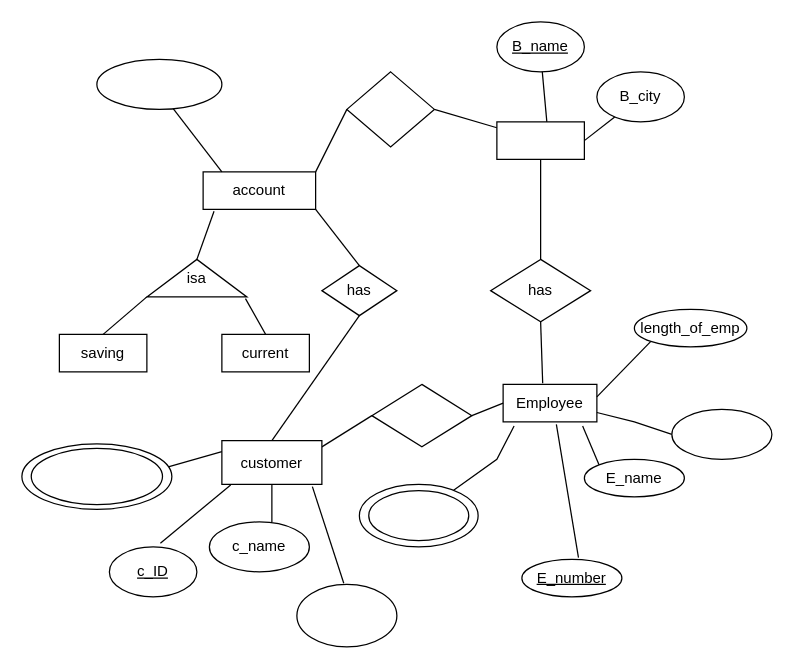
This 794x669 diagram has some shape labels left out. Each missing label, with the centre of its shape:
Acc_number: (159,83)
associate: (421,415)
Branch: (540,140)
c_address: (346,615)
C_telephone: (96,476)
E_address: (721,433)
E_telephone: (418,515)
offered by: (390,109)
